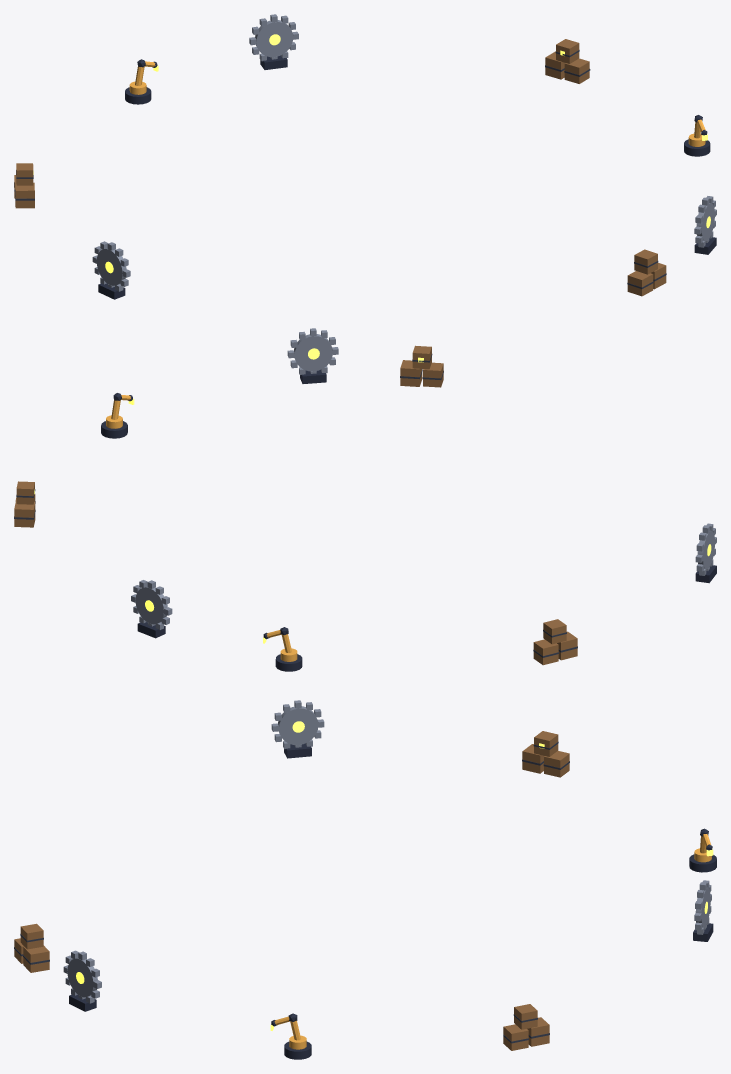
The picture shows the model from 3 angles, top to bottom: view 1: azimuth 30°, elevation 25°; view 2: azimuth 150°, elevation 25°; view 3: azimuth 270°, elevation 25°; orthographic projection. The views are drawn at different scales.
Visible parts, largest first — view 1: nexo_decor_taller.lod1; view 2: nexo_decor_taller.lod1; view 3: nexo_decor_taller.lod1.
Part boxes in pixels (x1=…): nexo_decor_taller.lod1: x1=14, y1=14, x2=716, y2=299; nexo_decor_taller.lod1: x1=14, y1=328, x2=716, y2=671; nexo_decor_taller.lod1: x1=14, y1=700, x2=716, y2=1059.
Bounding box in the file's own units: 28.94 × 2.29 × 27.76.
